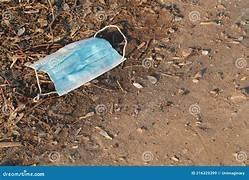Mask: (27, 25, 126, 99)
